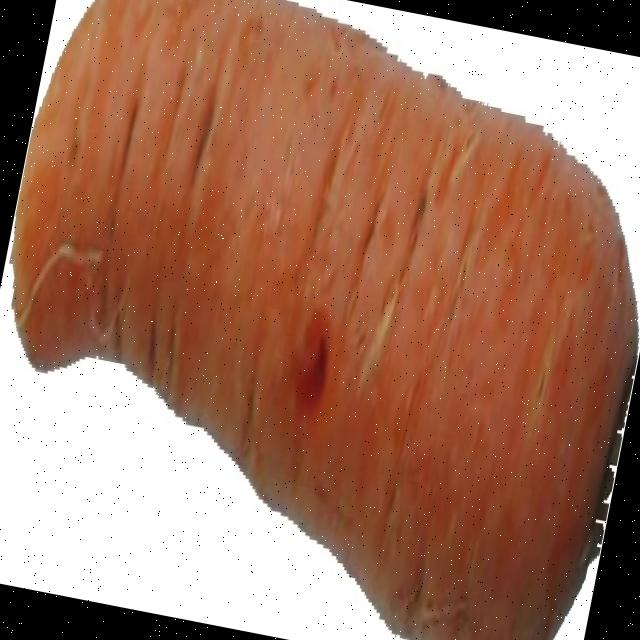carrot: (12, 0, 637, 640)
